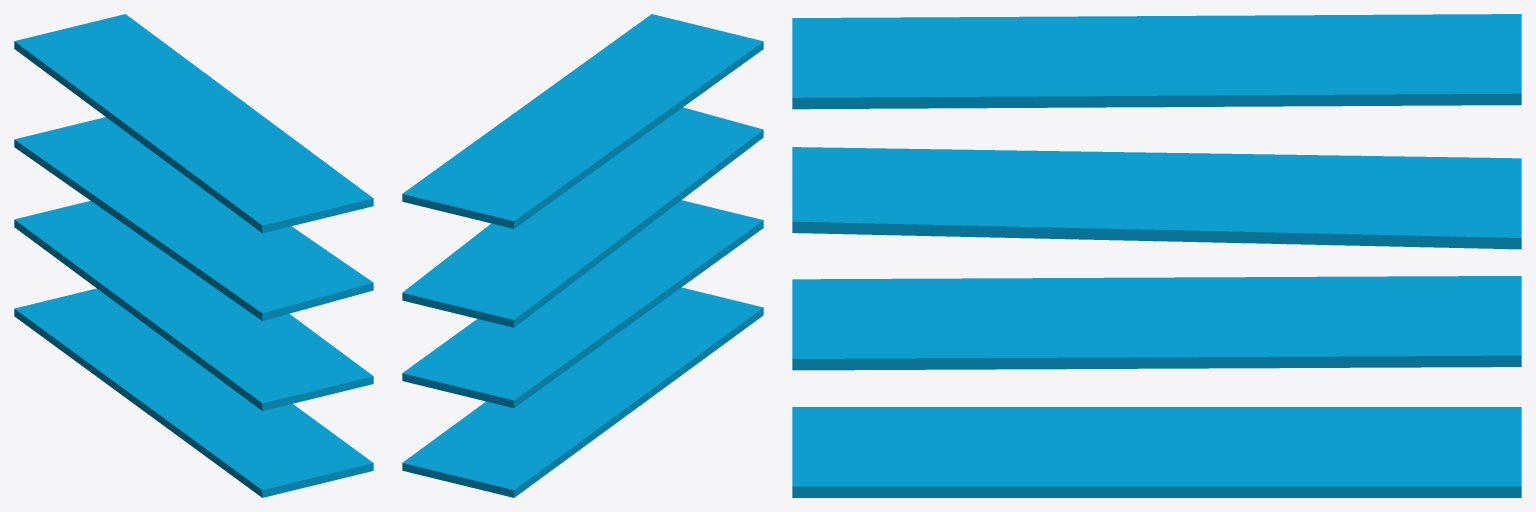
Rendered from Warehouse_Shelf_01_Lod1.fbx.
The picture shows the model from 3 angles, left to right: view 1: azimuth 30°, elevation 25°; view 2: azimuth 150°, elevation 25°; view 3: azimuth 270°, elevation 25°; orthographic projection. The views are drawn at different scales.
Visible parts, largest first — view 1: Warehouse_Shelf_01_Lod1; view 2: Warehouse_Shelf_01_Lod1; view 3: Warehouse_Shelf_01_Lod1.
Boxes of the visible parts, bbox=[...] form: Warehouse_Shelf_01_Lod1: bbox=[14, 14, 373, 497]; Warehouse_Shelf_01_Lod1: bbox=[402, 14, 763, 497]; Warehouse_Shelf_01_Lod1: bbox=[792, 14, 1521, 497].
Size of the model in its own units: 71.38 by 169 by 276.
